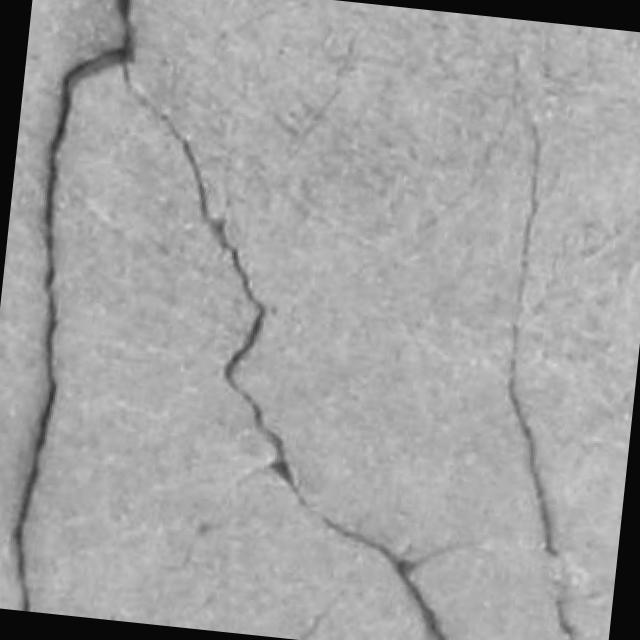crack: (122, 60, 448, 639), (126, 71, 448, 639), (12, 36, 132, 611), (506, 120, 559, 561)
